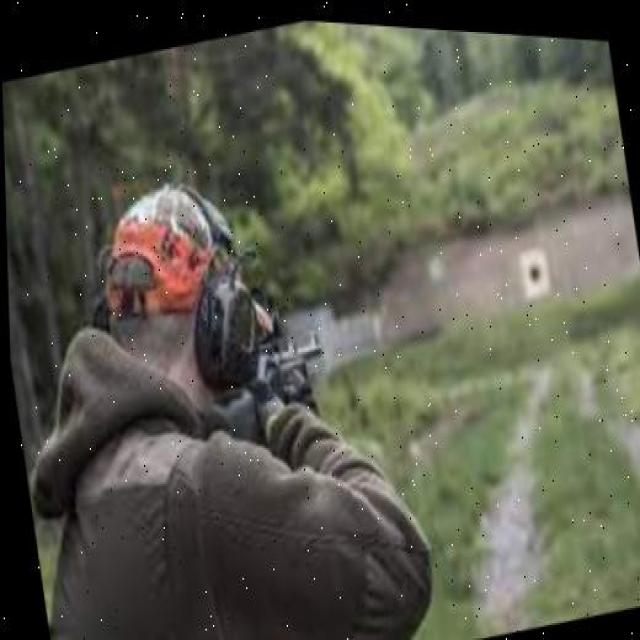Earmuffs: (195, 264, 258, 389)
No Hardhat: (103, 180, 230, 271)
No Overall Suit: (32, 329, 429, 638)
